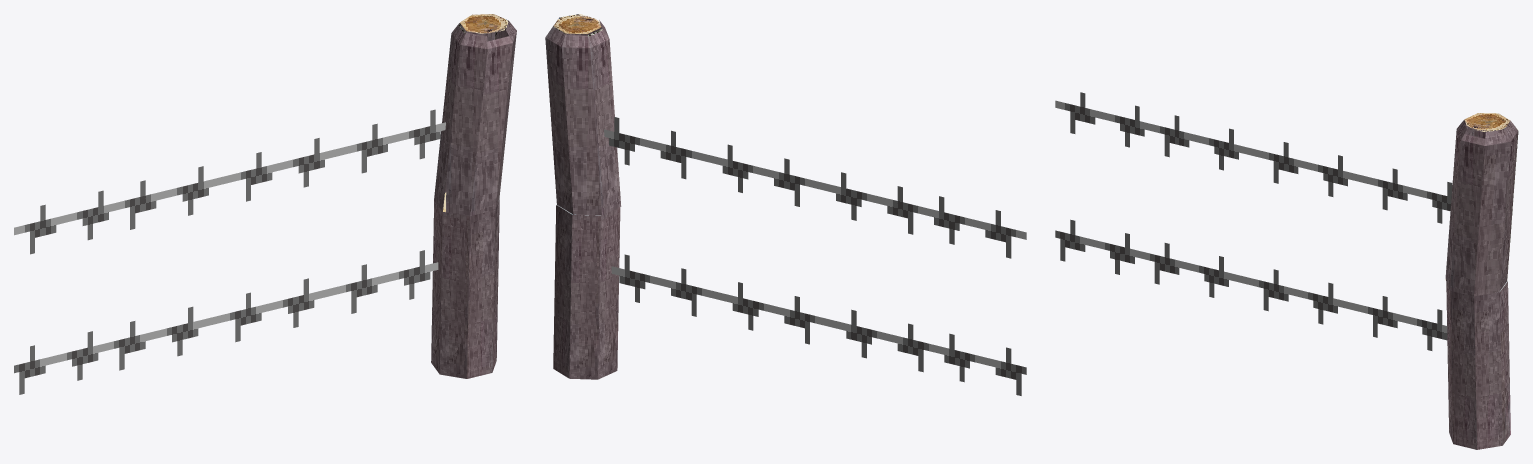
File: vallas.gltf
3 renders of one model, left to right at view 1: azimuth 30°, elevation 25°; view 2: azimuth 150°, elevation 25°; view 3: azimuth 330°, elevation 25°, orthographic. The views are drawn at different scales.
Visible parts, largest first — view 1: cylinder (×2), plane; view 2: cylinder (×2), plane; view 3: cylinder (×2), plane.
Boxes of the visible parts, box(x1,y1,x2,y2) form: cylinder (×2): box(431, 14, 516, 378); plane: box(14, 109, 445, 394); cylinder (×2): box(545, 14, 621, 379); plane: box(604, 117, 1026, 395); cylinder (×2): box(1445, 113, 1518, 449); plane: box(1055, 92, 1452, 350).
Size of the model in its own units: 2.93 by 1.94 by 0.3931.
3 materials, 3 textured.
